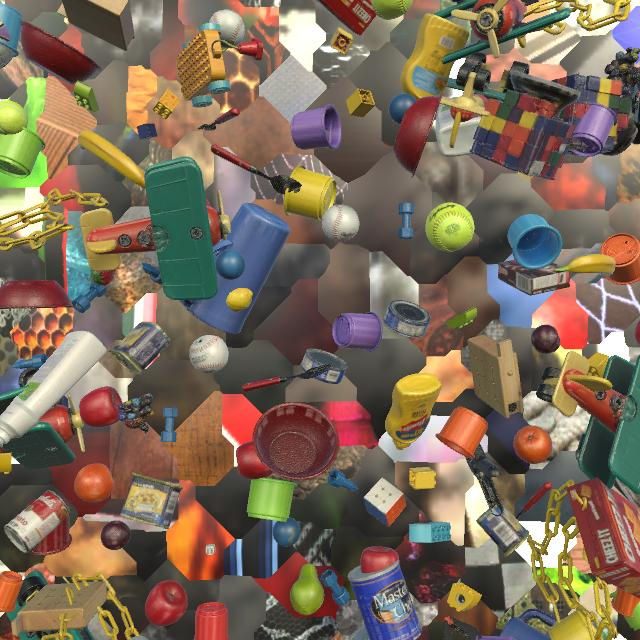ycb_002_master_chef_can: (348, 560, 422, 640), (348, 624, 369, 640), (129, 636, 148, 640)
ycb_003_cracker_box: (566, 477, 640, 599), (315, 0, 376, 36)
ycb_005_tomato_soup_can: (4, 490, 70, 553)
ycb_006_mustard_bottle: (400, 13, 469, 100), (385, 373, 442, 450)
ycb_007_tuna_fish_can: (383, 300, 431, 338), (301, 348, 348, 384)
ycb_008_pudding_box: (498, 260, 571, 296)
ycb_010_potted_meat_can: (120, 472, 184, 529), (109, 321, 171, 375), (476, 500, 530, 557)
ycb_011_banana: (78, 130, 146, 189), (554, 254, 616, 276)
ycb_012_strawberry: (91, 269, 116, 286)
ycb_013_apple: (145, 580, 188, 626), (79, 386, 122, 427), (236, 441, 273, 480), (360, 547, 399, 573), (634, 320, 640, 344), (205, 197, 210, 206)
ycb_014_lemon: (226, 288, 253, 312)
ycb_016_pear: (290, 563, 324, 615)
ycb_017_orange: (74, 463, 115, 503), (513, 425, 553, 464)
ycb_018_plum: (101, 520, 131, 550), (531, 324, 561, 354)
